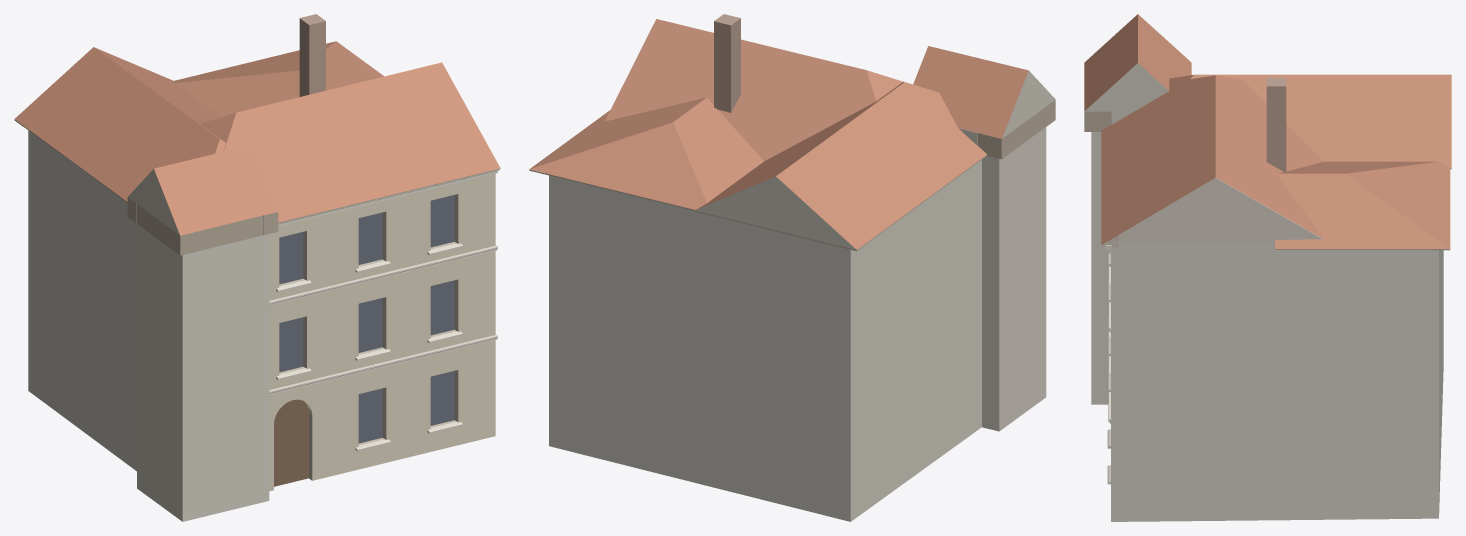
3 renders of one model, left to right at view 1: azimuth 30°, elevation 25°; view 2: azimuth 150°, elevation 25°; view 3: azimuth 270°, elevation 25°, orthographic. The views are drawn at different scales.
Visible parts, largest first — view 1: CP_260_Masonry, CP_260_Corner_Bay, CP_260_Roof, CP_260_WingRoof_West_Wing_Dobrovolcu, CP_260_WingRoof_Corner_Bay, CP_260_WingRoof_Rear_Attic, CP_260_Chimney_0, CP_260_WingRoof_Corner_Bay_EaveClosure_0, CP_260_Cornice_string1_0, CP_260_Cornice_string2_0, CP_260_WingRoof_Corner_Bay_EaveClosure_3, CP_260_Cornice_eave_0; view 2: CP_260_Masonry, CP_260_WingRoof_West_Wing_Dobrovolcu, CP_260_Roof, CP_260_Corner_Bay, CP_260_WingRoof_Rear_Attic, CP_260_WingRoof_Corner_Bay, CP_260_Chimney_0, CP_260_WingRoof_Corner_Bay_EaveClosure_3; view 3: CP_260_Masonry, CP_260_Roof, CP_260_WingRoof_West_Wing_Dobrovolcu, CP_260_WingRoof_Rear_Attic, CP_260_Gable_R_gable, CP_260_WingRoof_Corner_Bay, CP_260_Corner_Bay, CP_260_Chimney_0, CP_260_AtticClosure.
Part boxes in pixels (left/top/right/bottom): CP_260_Masonry: left=28, top=130, right=495, bottom=491; CP_260_Corner_Bay: left=137, top=224, right=269, bottom=521; CP_260_Roof: left=200, top=62, right=500, bottom=222; CP_260_WingRoof_West_Wing_Dobrovolcu: left=14, top=47, right=225, bottom=201; CP_260_WingRoof_Corner_Bay: left=128, top=145, right=278, bottom=235; CP_260_WingRoof_Rear_Attic: left=173, top=41, right=383, bottom=117; CP_260_Chimney_0: left=299, top=14, right=325, bottom=96; CP_260_WingRoof_Corner_Bay_EaveClosure_0: left=172, top=215, right=263, bottom=255; CP_260_Cornice_string1_0: left=269, top=334, right=497, bottom=394; CP_260_Cornice_string2_0: left=269, top=245, right=497, bottom=305; CP_260_WingRoof_Corner_Bay_EaveClosure_3: left=136, top=204, right=194, bottom=255; CP_260_Cornice_eave_0: left=278, top=169, right=499, bottom=226; CP_260_Masonry: left=549, top=160, right=981, bottom=521; CP_260_WingRoof_West_Wing_Dobrovolcu: left=695, top=82, right=986, bottom=249; CP_260_Roof: left=605, top=19, right=903, bottom=161; CP_260_Corner_Bay: left=982, top=127, right=1046, bottom=431; CP_260_WingRoof_Rear_Attic: left=529, top=97, right=763, bottom=209; CP_260_WingRoof_Corner_Bay: left=913, top=46, right=1055, bottom=138; CP_260_Chimney_0: left=714, top=14, right=740, bottom=112; CP_260_WingRoof_Corner_Bay_EaveClosure_3: left=987, top=106, right=1046, bottom=159; CP_260_Masonry: left=1111, top=243, right=1443, bottom=521; CP_260_Roof: left=1101, top=75, right=1323, bottom=244; CP_260_WingRoof_West_Wing_Dobrovolcu: left=1169, top=74, right=1451, bottom=167; CP_260_WingRoof_Rear_Attic: left=1275, top=161, right=1450, bottom=248; CP_260_Gable_R_gable: left=1101, top=177, right=1322, bottom=246; CP_260_WingRoof_Corner_Bay: left=1084, top=14, right=1191, bottom=111; CP_260_Corner_Bay: left=1091, top=132, right=1108, bottom=404; CP_260_Chimney_0: left=1266, top=78, right=1286, bottom=171; CP_260_AtticClosure: left=1111, top=64, right=1152, bottom=124.
Bounding box in the file's own units: 13.98 × 15.2 × 13.
